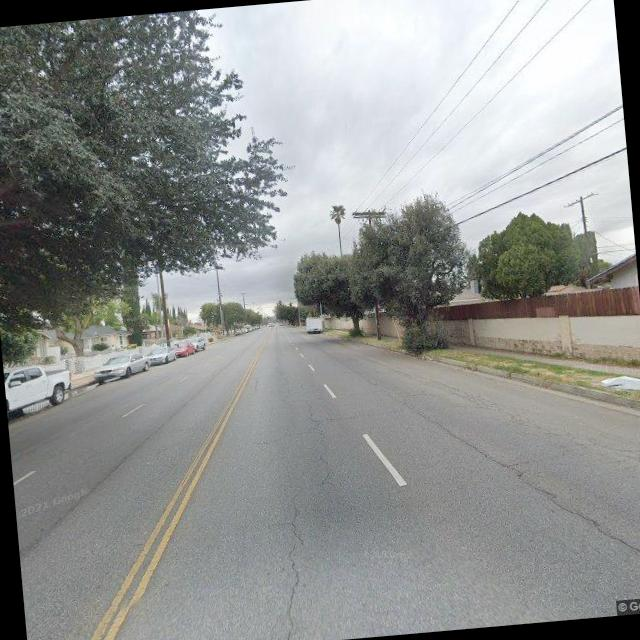pothole: (388, 376, 640, 582), (252, 391, 336, 640)
